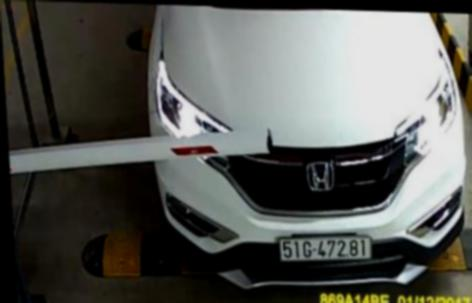License_Plate: (278, 234, 376, 262)
